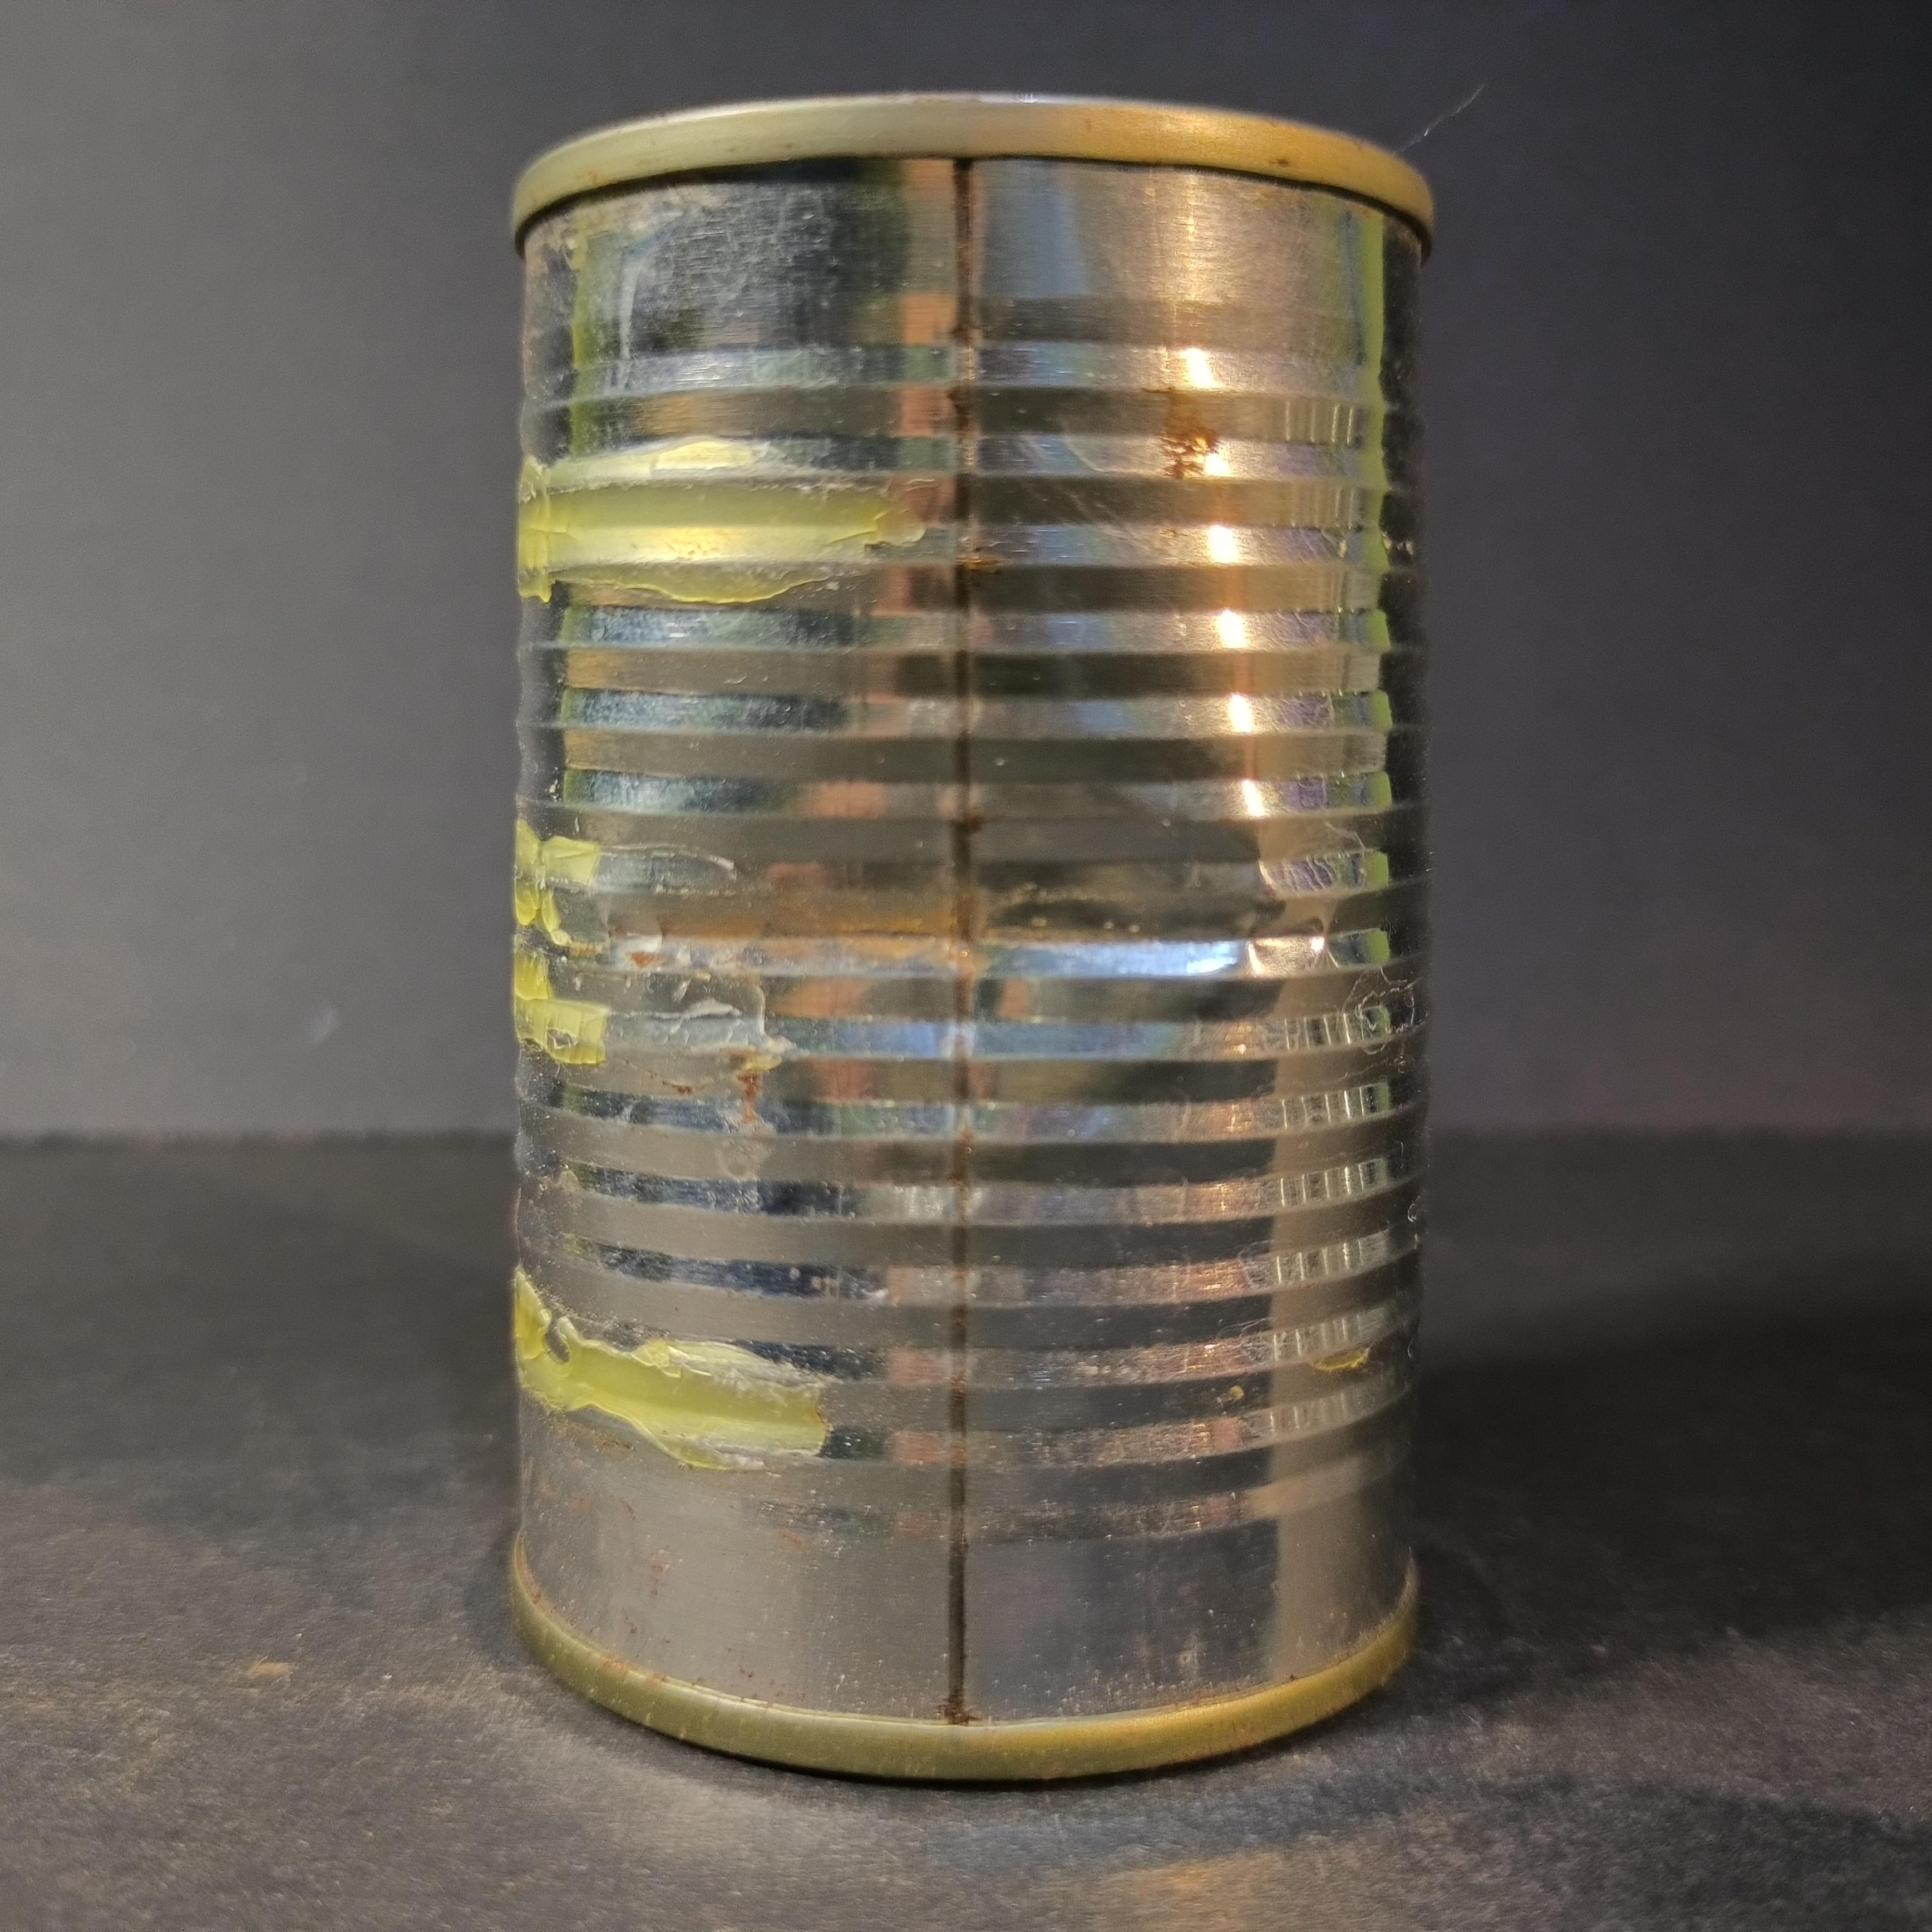Dented: (490, 53, 1454, 1792)
